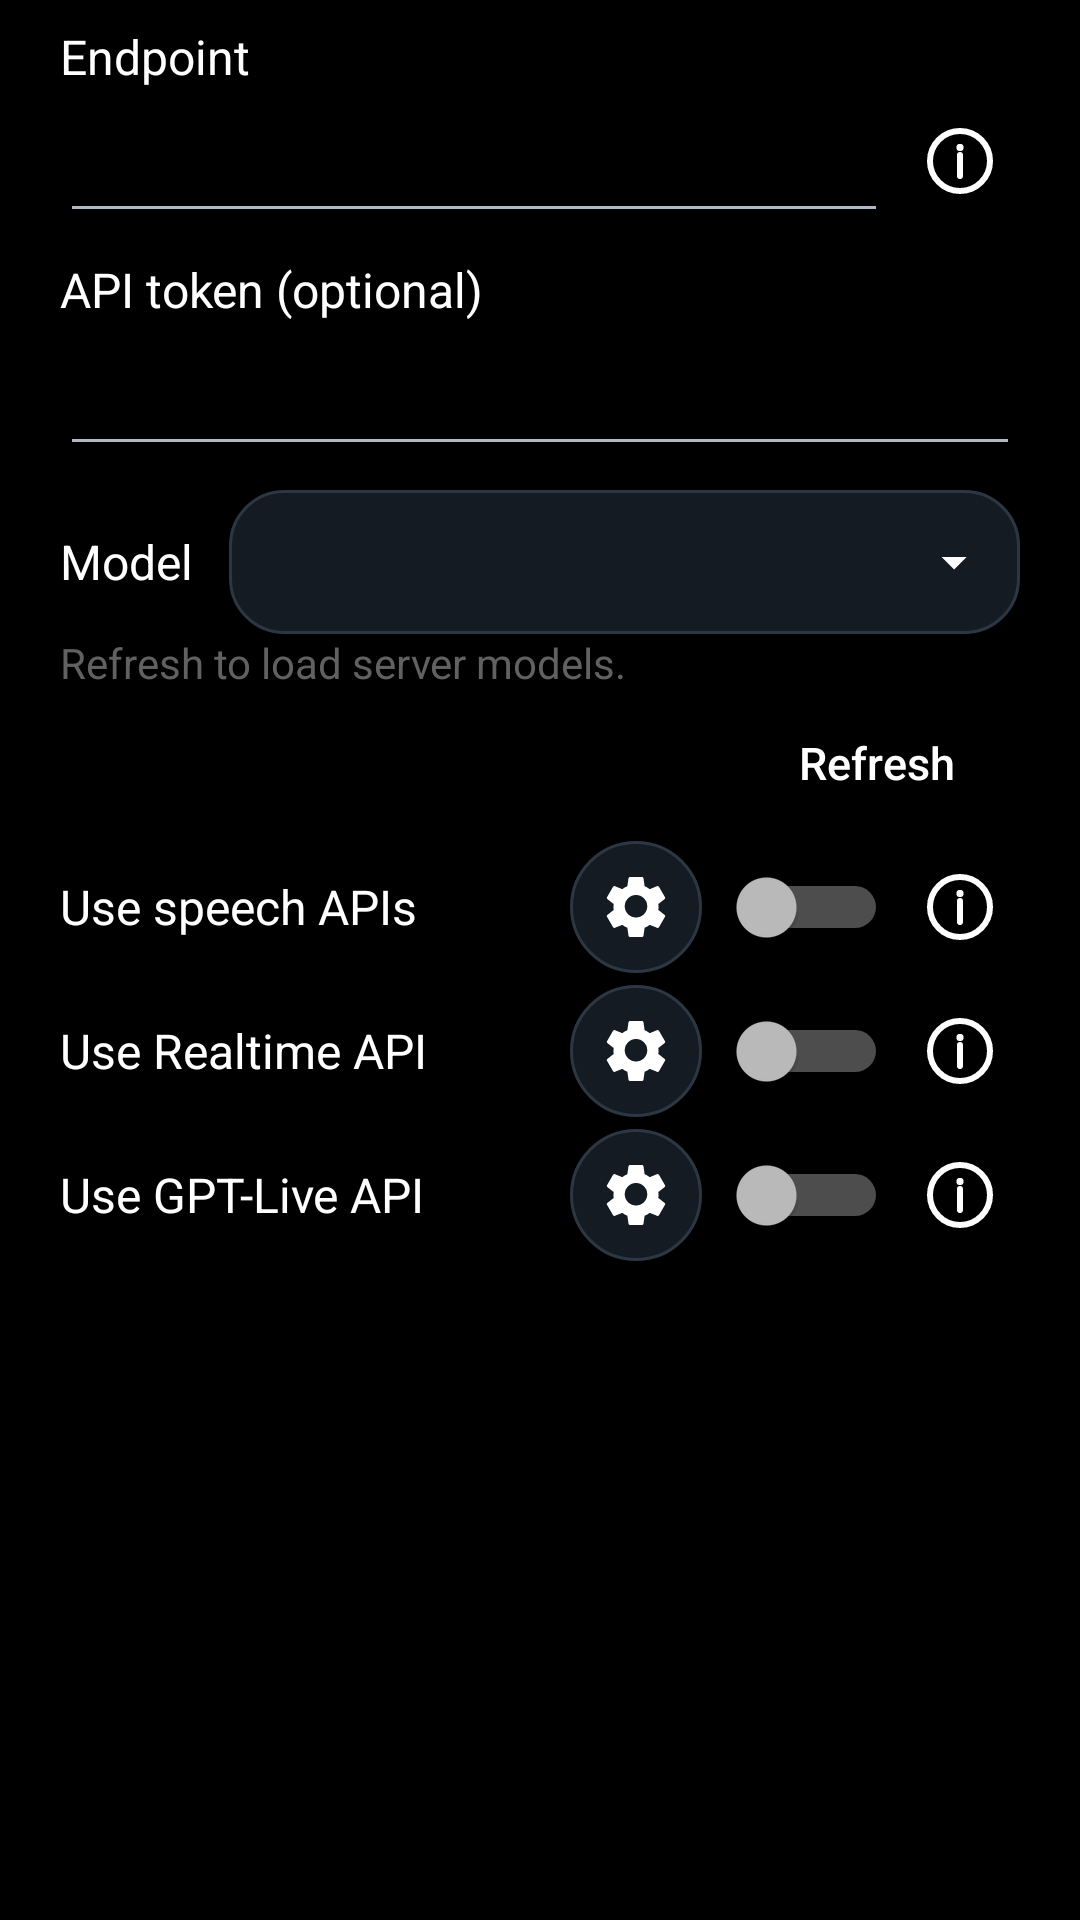

Point at icon controls on the screen. Image size 1080px×1920px, points as (x,y).
GPT-Live settings: (636,1195)
Realtime settings: (636,1051)
Server speech settings: (636,907)
